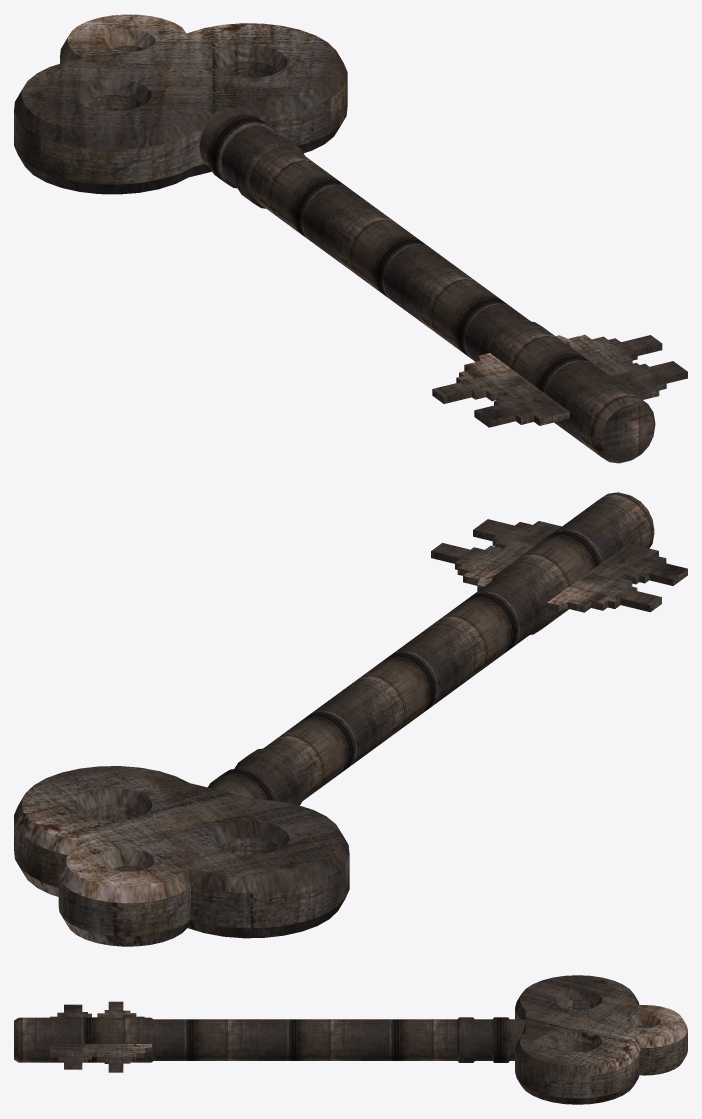
The model's file is Key.FBX.
3 views of the same model, one above another, from view 1: azimuth 30°, elevation 25°; view 2: azimuth 150°, elevation 25°; view 3: azimuth 270°, elevation 25° (orthographic). The views are drawn at different scales.
Visible parts, largest first — view 1: Circle003; view 2: Circle003; view 3: Circle003.
Boxes of the visible parts, box(x1,y1,x2,y2) form: Circle003: box(14, 14, 687, 463); Circle003: box(14, 492, 687, 946); Circle003: box(14, 975, 687, 1104).
Bounding box in the file's own units: 85.91 × 17.29 × 258.
Materials: 1 (1 with a texture image).
